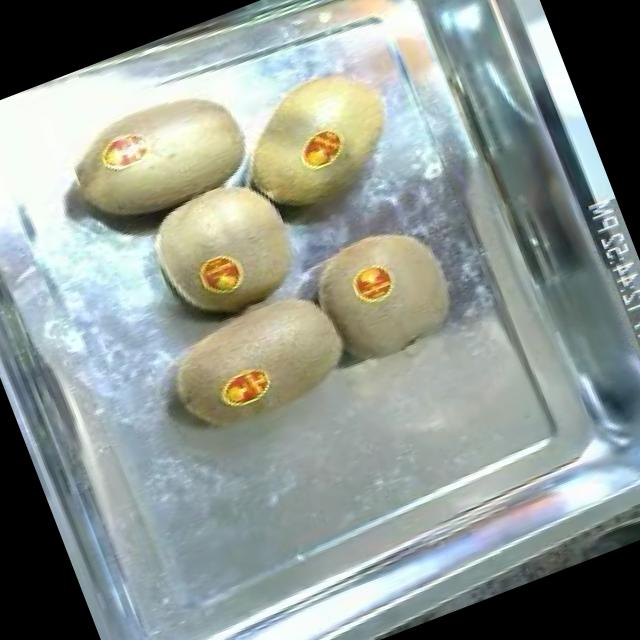Fruit: (44, 54, 276, 252), (212, 45, 423, 241), (144, 270, 366, 452), (130, 162, 320, 339)
